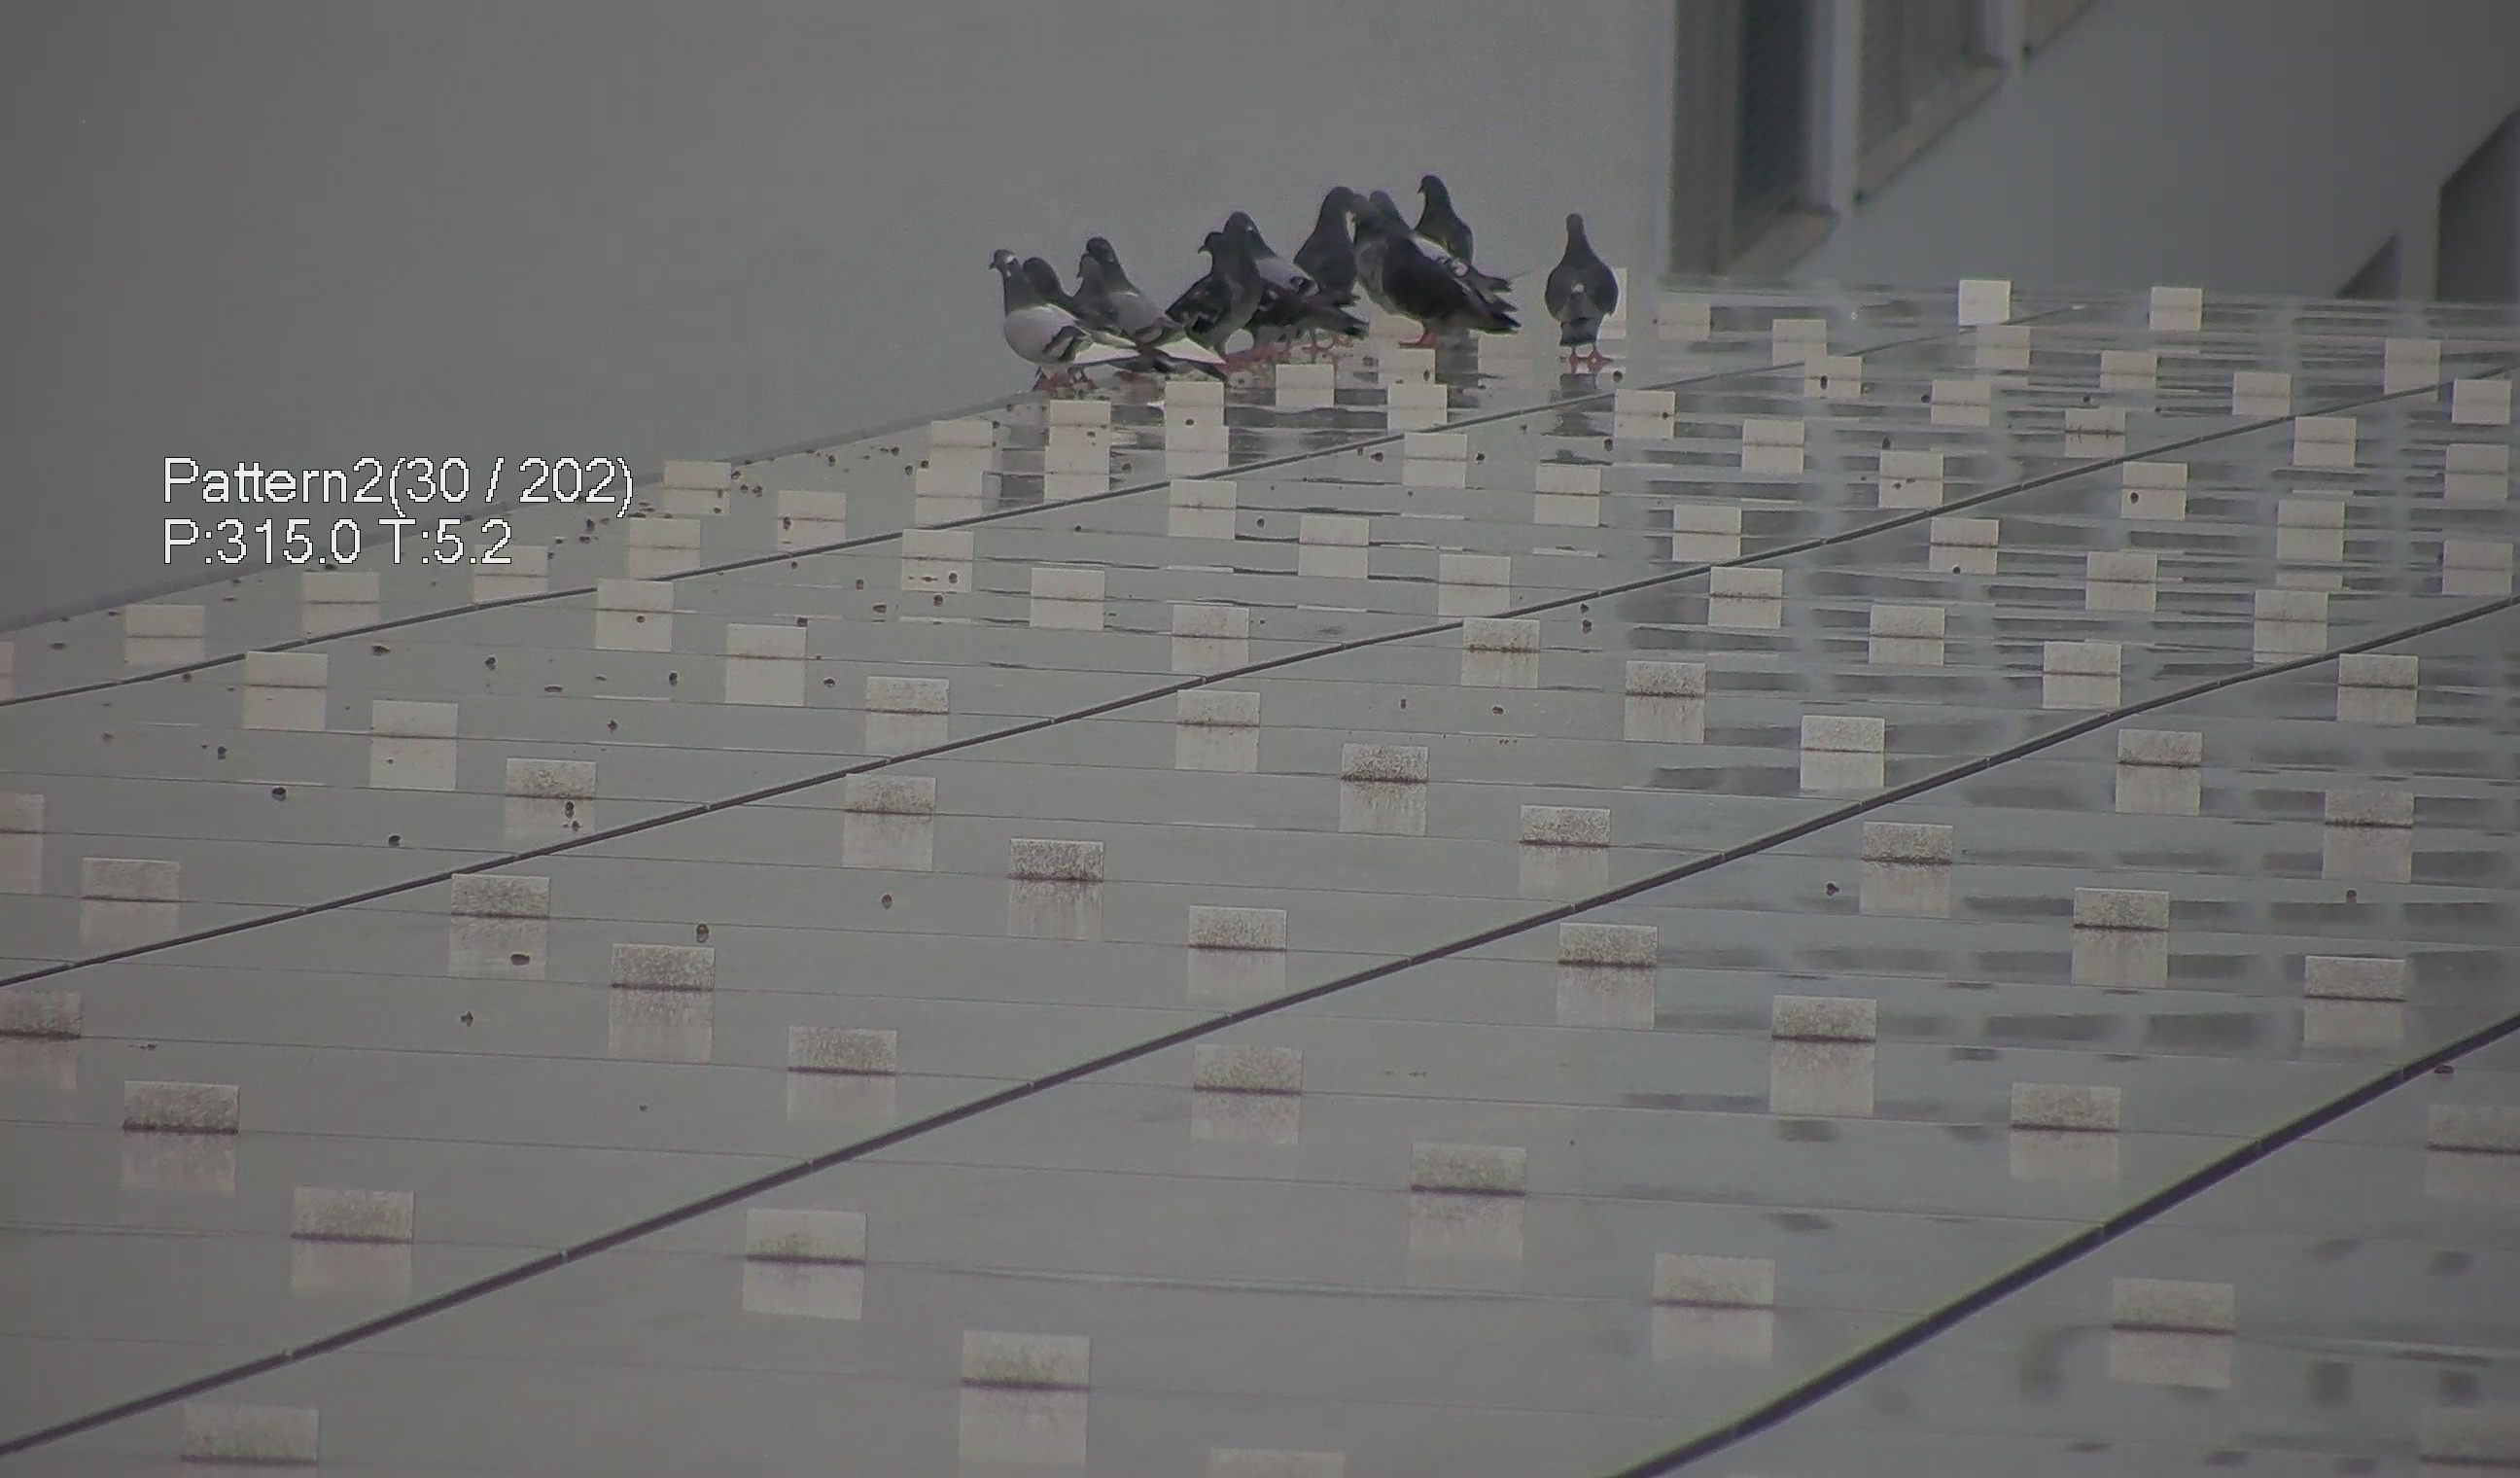Pigeon: (957, 225, 1229, 382), (1338, 171, 1511, 333), (1140, 227, 1268, 373), (978, 232, 1110, 371), (1053, 218, 1184, 357), (1535, 202, 1625, 364), (1289, 172, 1368, 308), (1412, 174, 1493, 262)
